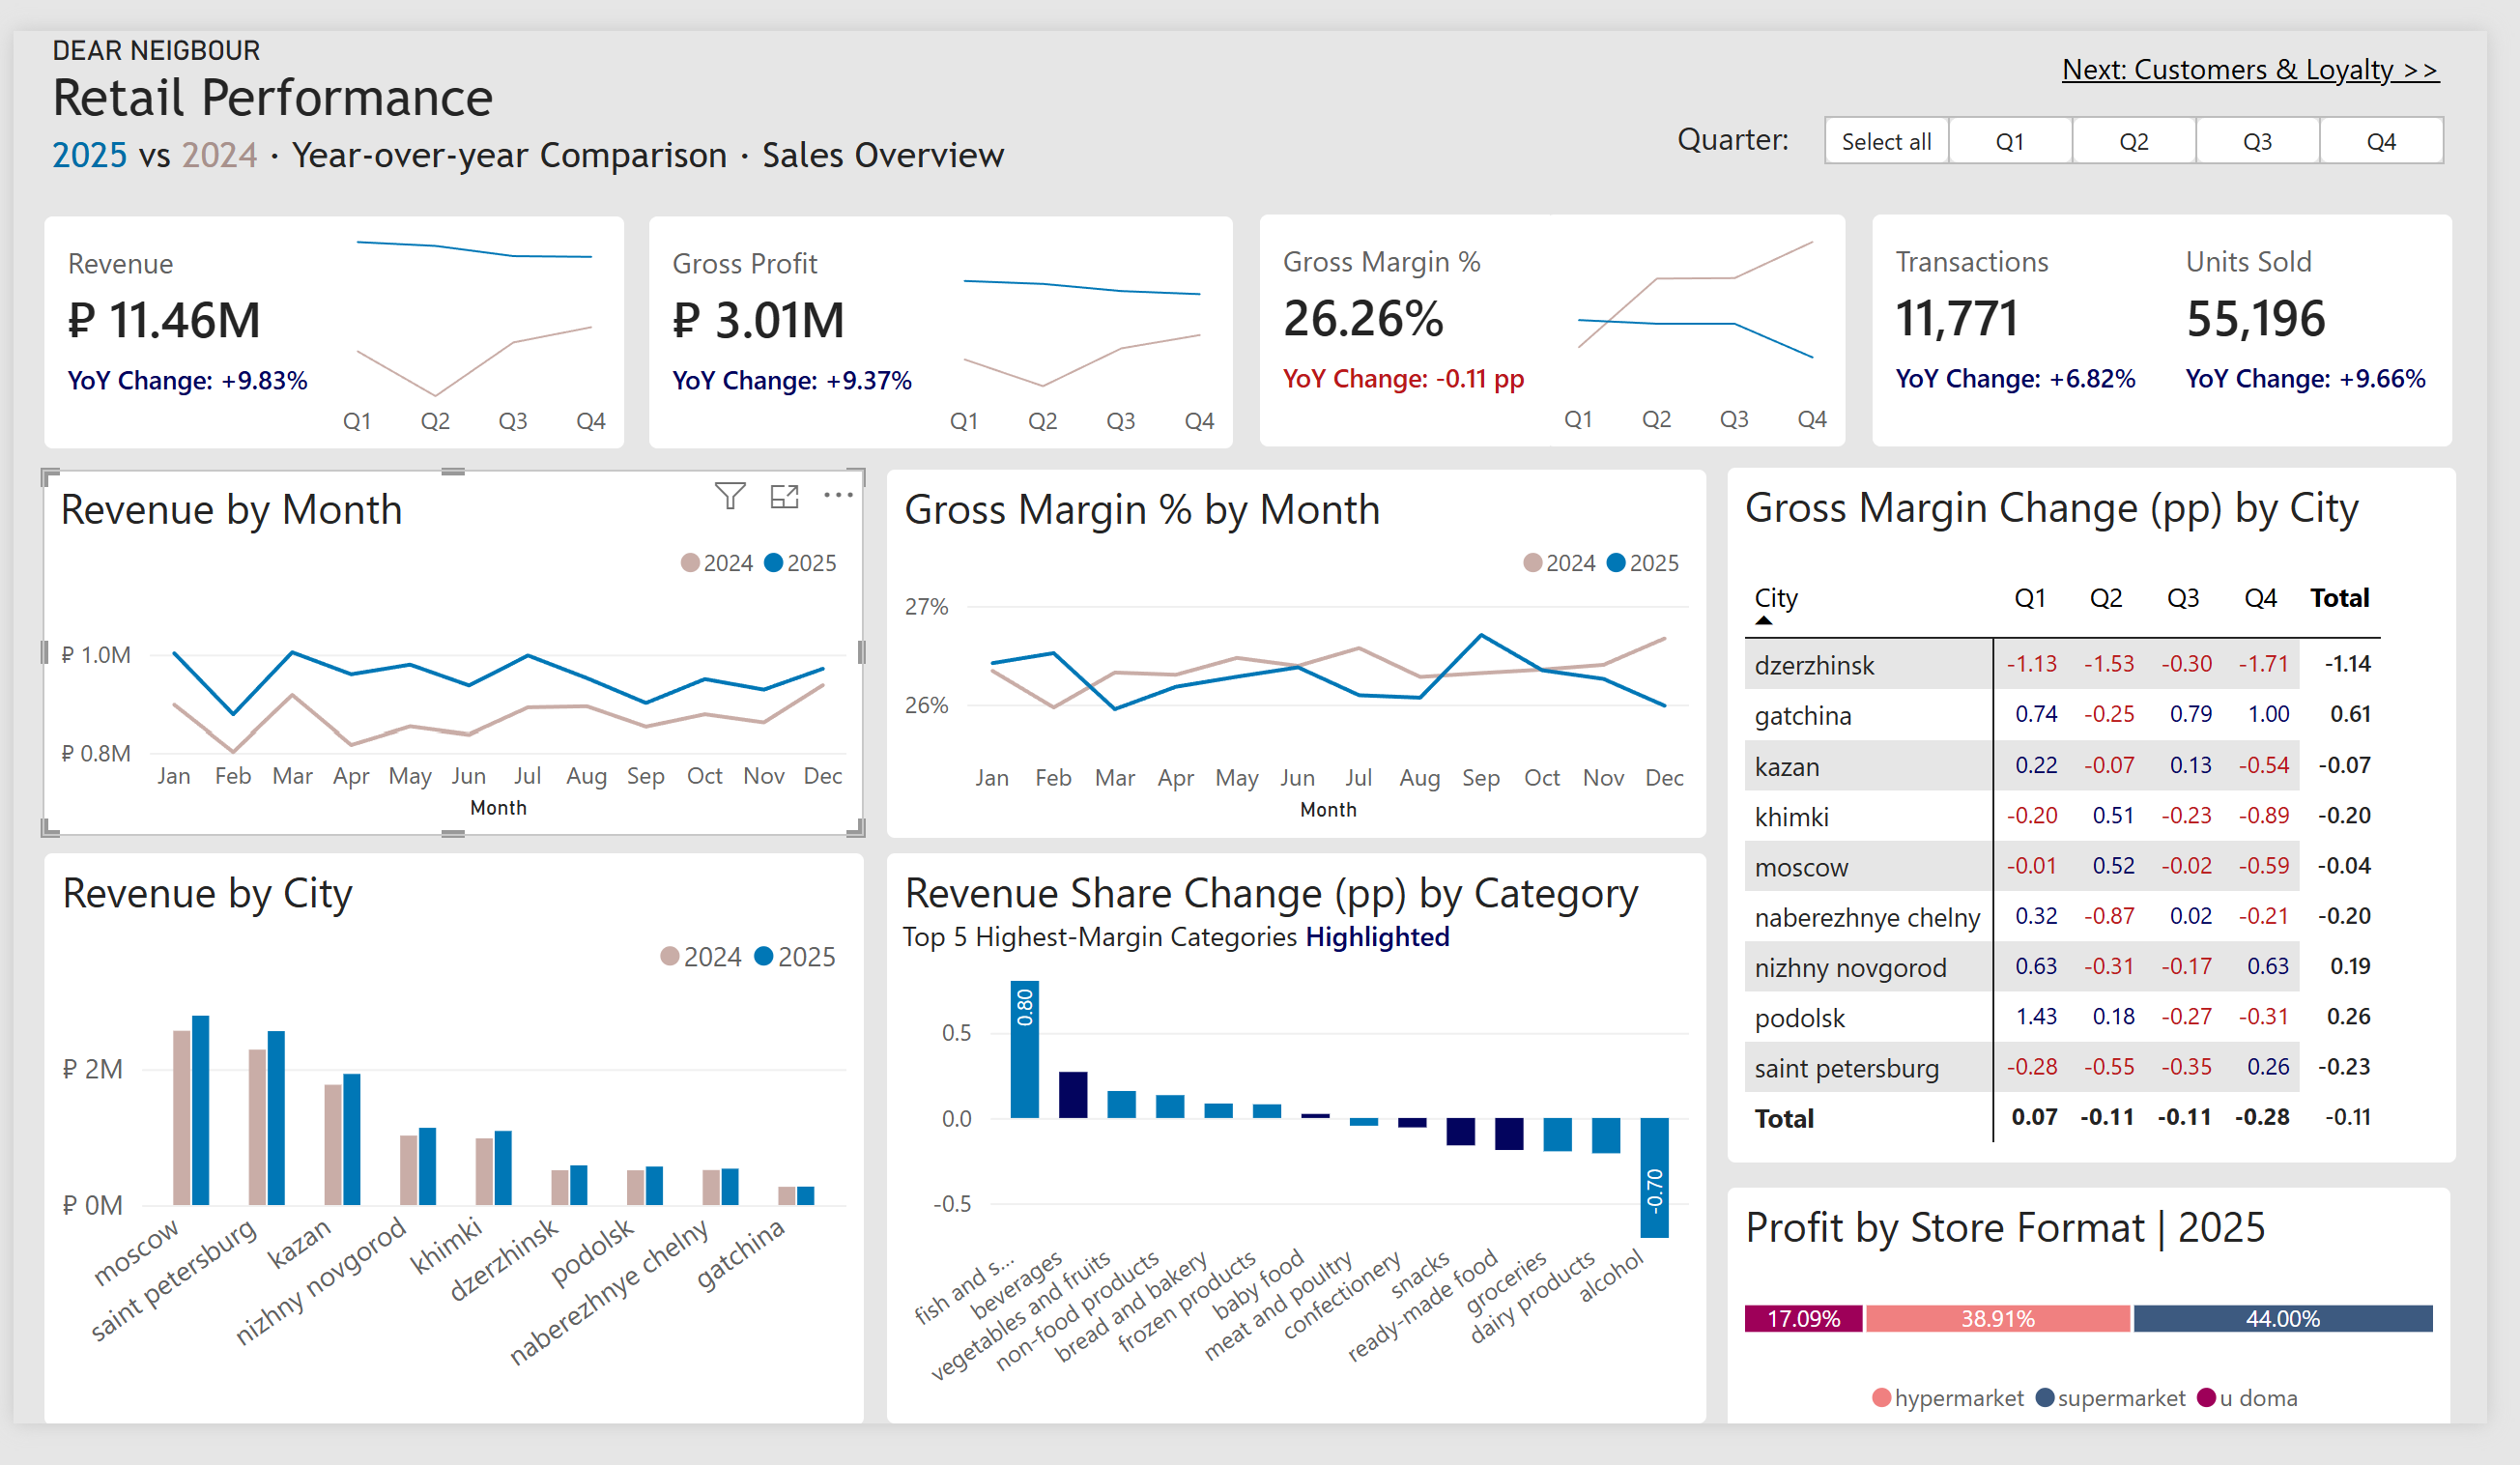

Layout of this report page (visuals, bound fields, positions):
{"tool":"powerbi","page":{"name":"Sales Overview","canvas":[1280,720],"ordinal":0},"visuals":[{"type":"textbox","box":[0,0,290,60],"z":0},{"type":"advancedSlicerVisual","fields":{"Values":["calendar.Quarter"]},"box":[936.7,43.8,325,25],"z":1000},{"type":"textbox","box":[0,53.5,545.7,33.1],"z":2000},{"type":"cardVisual","fields":{"Data":["fact_sales.Gross Margin %"]},"box":[645,95,150,120],"z":3000},{"type":"cardVisual","fields":{"Data":["fact_sales.Transactions"]},"box":[962.1,95,150,120],"z":4000},{"type":"lineChart","title":"Gross Margin","fields":{"Category":["calendar.Quarter"],"Series":["calendar.Year"],"Y":["fact_sales.Gross Margin %"]},"box":[793.3,95,155,120],"z":5000},{"type":"pivotTable","title":"Gross Margin Change (pp) by City","fields":{"Columns":["calendar.Quarter"],"Rows":["dim_stores.city"],"Values":["fact_sales.Margin Change 2025"]},"box":[886.9,226.4,376.6,359.1],"z":6000},{"type":"lineChart","title":"Gross Margin","fields":{"Category":["calendar.Quarter"],"Series":["calendar.Year"],"Y":["fact_sales.Revenue"]},"box":[161.4,95.9,154.5,120],"z":7000},{"type":"lineChart","title":"Gross Margin","fields":{"Category":["calendar.Quarter"],"Series":["calendar.Year"],"Y":["fact_sales.Gross Profit"]},"box":[475,95.6,155.6,120],"z":8000},{"type":"cardVisual","fields":{"Data":["fact_sales.Units Sold"]},"box":[1112.1,95,150,120],"z":9000},{"type":"lineChart","title":"Revenue by Month","fields":{"Category":["calendar.Month"],"Series":["calendar.Year"],"Y":["fact_sales.Revenue"]},"box":[15.4,227.4,425,188.3],"z":10000},{"type":"clusteredColumnChart","title":"Revenue by City","fields":{"Category":["dim_stores.city"],"Series":["calendar.Year"],"Y":["fact_sales.Revenue"]},"box":[16.5,425,423.9,296.3],"z":11000},{"type":"clusteredColumnChart","title":"Revenue Share Change  (pp) by Category","fields":{"Category":["dim_products.category"],"Y":["fact_sales.Revenue Share Change pp"]},"box":[452,425,423.9,295.3],"z":12000},{"type":"textbox","box":[451.7,457.9,363.3,30],"z":13000},{"type":"lineChart","title":"Gross Margin % by Month","fields":{"Category":["calendar.Month"],"Series":["calendar.Year"],"Y":["fact_sales.Gross Margin %"]},"box":[452,227.4,423.9,189.3],"z":14000},{"type":"hundredPercentStackedBarChart","title":"Profit by Store Format | 2025","fields":{"Category":["calendar.Year"],"Series":["dim_stores.store_format"],"Y":["fact_sales.Gross Profit"]},"box":[886.9,597.8,374.5,127.6],"z":15000},{"type":"textbox","box":[860.8,43.8,75.9,25],"z":16000},{"type":"cardVisual","fields":{"Data":["fact_sales.Gross Profit"]},"box":[328.5,95.9,150,120],"z":17000},{"type":"cardVisual","fields":{"Data":["fact_sales.Revenue"]},"box":[15.6,95.9,150,120],"z":18000},{"type":"actionButton","title":"Next: Customers & Loyalty","box":[1052.4,0,228.6,37],"z":19000}]}

Visuals, with their boxes on the page's 1280x720 design canvas (x1, y1, x2, y2). These are canvas units, not pixel positions in the 2520x1465 screenshot, which may show the page scaled, cropped or inside an application window:
textbox: (left=0, top=0, right=290, bottom=60)
advancedSlicerVisual - calendar.Quarter: (left=937, top=44, right=1262, bottom=69)
textbox: (left=0, top=54, right=546, bottom=87)
cardVisual - fact_sales.Gross Margin %: (left=645, top=95, right=795, bottom=215)
cardVisual - fact_sales.Transactions: (left=962, top=95, right=1112, bottom=215)
"Gross Margin" lineChart: (left=793, top=95, right=948, bottom=215)
"Gross Margin Change (pp) by City" pivotTable: (left=887, top=226, right=1264, bottom=586)
"Gross Margin" lineChart: (left=161, top=96, right=316, bottom=216)
"Gross Margin" lineChart: (left=475, top=96, right=631, bottom=216)
cardVisual - fact_sales.Units Sold: (left=1112, top=95, right=1262, bottom=215)
"Revenue by Month" lineChart: (left=15, top=227, right=440, bottom=416)
"Revenue by City" clusteredColumnChart: (left=16, top=425, right=440, bottom=721)
"Revenue Share Change  (pp) by Category" clusteredColumnChart: (left=452, top=425, right=876, bottom=720)
textbox: (left=452, top=458, right=815, bottom=488)
"Gross Margin % by Month" lineChart: (left=452, top=227, right=876, bottom=417)
"Profit by Store Format | 2025" hundredPercentStackedBarChart: (left=887, top=598, right=1261, bottom=725)
textbox: (left=861, top=44, right=937, bottom=69)
cardVisual - fact_sales.Gross Profit: (left=328, top=96, right=478, bottom=216)
cardVisual - fact_sales.Revenue: (left=16, top=96, right=166, bottom=216)
"Next: Customers & Loyalty" actionButton: (left=1052, top=0, right=1281, bottom=37)
